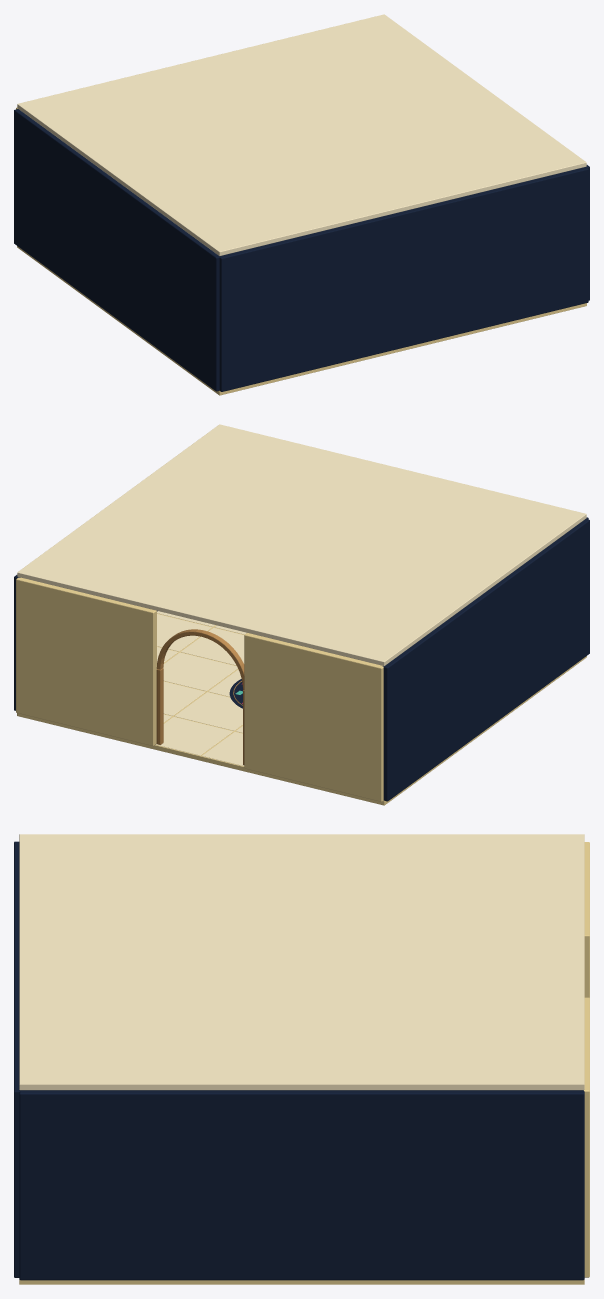
File: S1Hall.fbx
3 views of the same model, one above another, from view 1: azimuth 30°, elevation 25°; view 2: azimuth 150°, elevation 25°; view 3: azimuth 270°, elevation 25° (orthographic). The views are drawn at different scales.
Visible parts, largest first — view 1: S1Hall.Mesh, Hall.Ceiling.Mesh; view 2: S1Hall.Mesh, Hall.Ceiling.Mesh; view 3: Hall.Ceiling.Mesh, S1Hall.Mesh.
Part boxes in pixels (x1,y1,x2,y2): S1Hall.Mesh: [14, 107, 589, 395]; Hall.Ceiling.Mesh: [17, 14, 586, 255]; S1Hall.Mesh: [14, 517, 589, 805]; Hall.Ceiling.Mesh: [17, 424, 586, 665]; Hall.Ceiling.Mesh: [19, 834, 584, 1090]; S1Hall.Mesh: [14, 841, 589, 1284].
Size of the model in its own units: 1344 by 493 by 1284.
